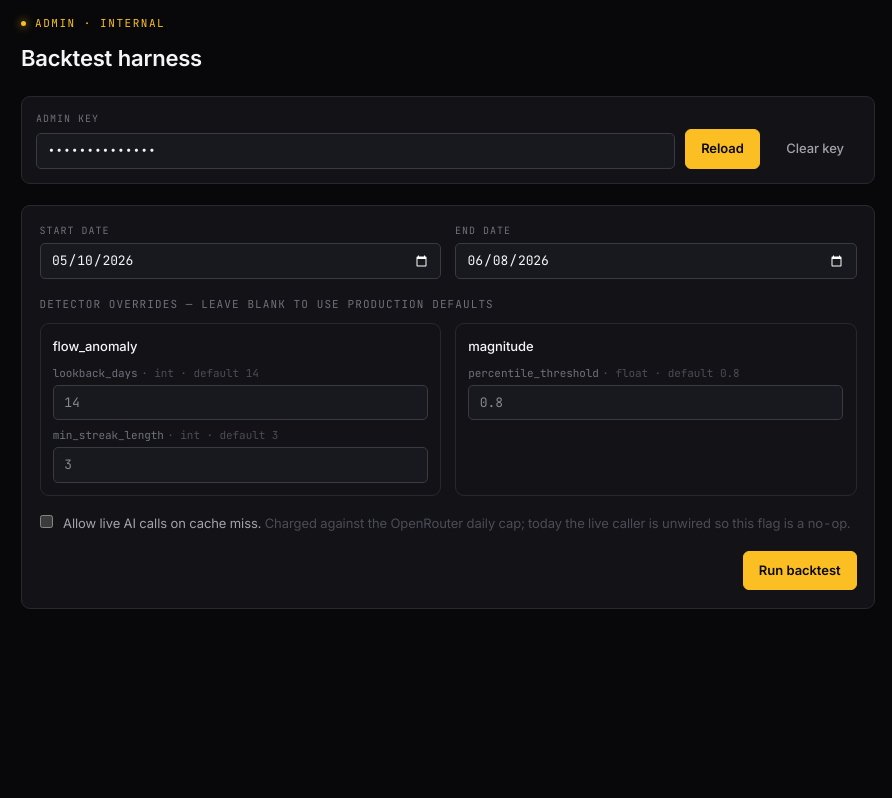
Test: BacktestPage stale-results guard › hides the old results card while a new run is in flight
Expected: the text "flow_anomaly" is shown, [53,338,137,354]
Note: First run — results card renders with the report.
Click the button "Run backtest". click: (800, 570)
box: [743,550,856,590]
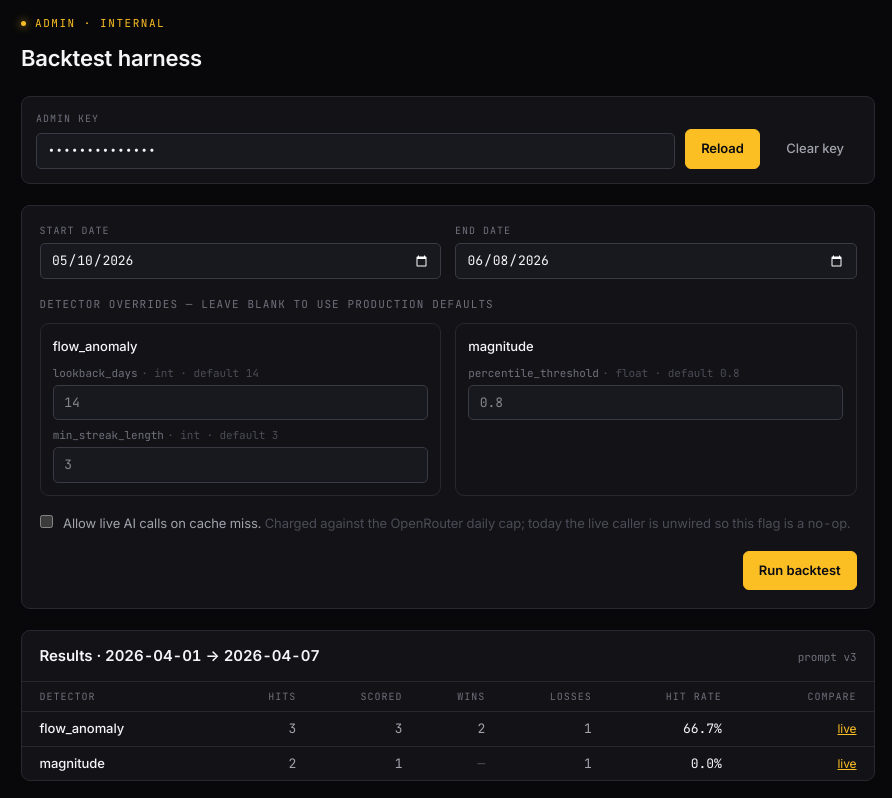
Expected: the table is shown, [22,682,874,780]
Click the button "Run backtest". click: (800, 570)
box: [743,550,856,590]
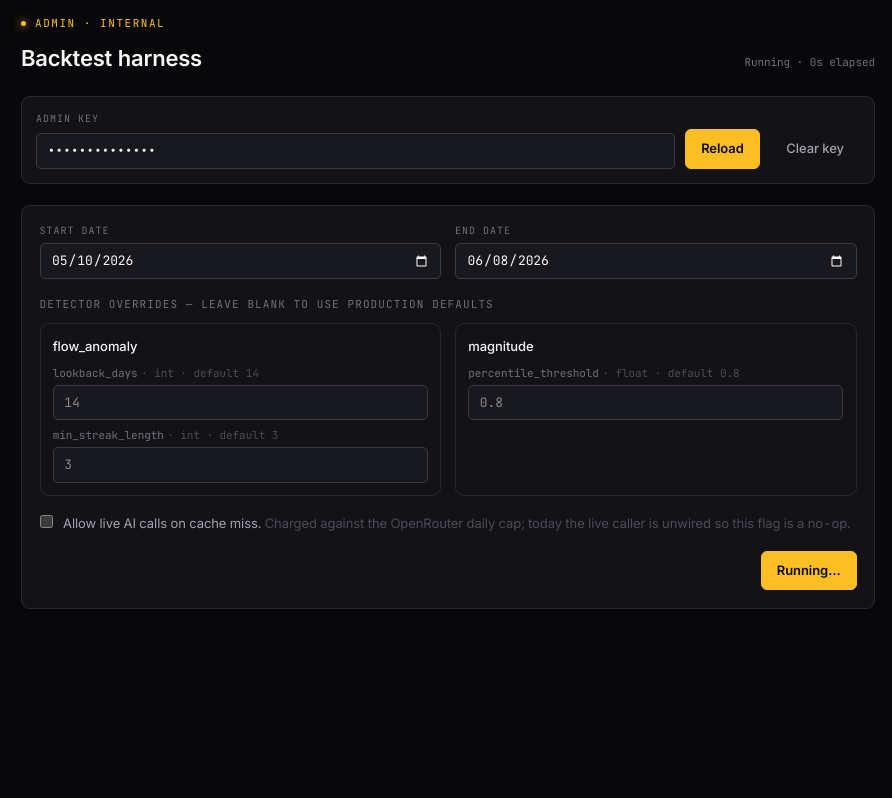
Expected: the button "Running…" is disabled, [761,550,857,590]
Expected: the table is gone
